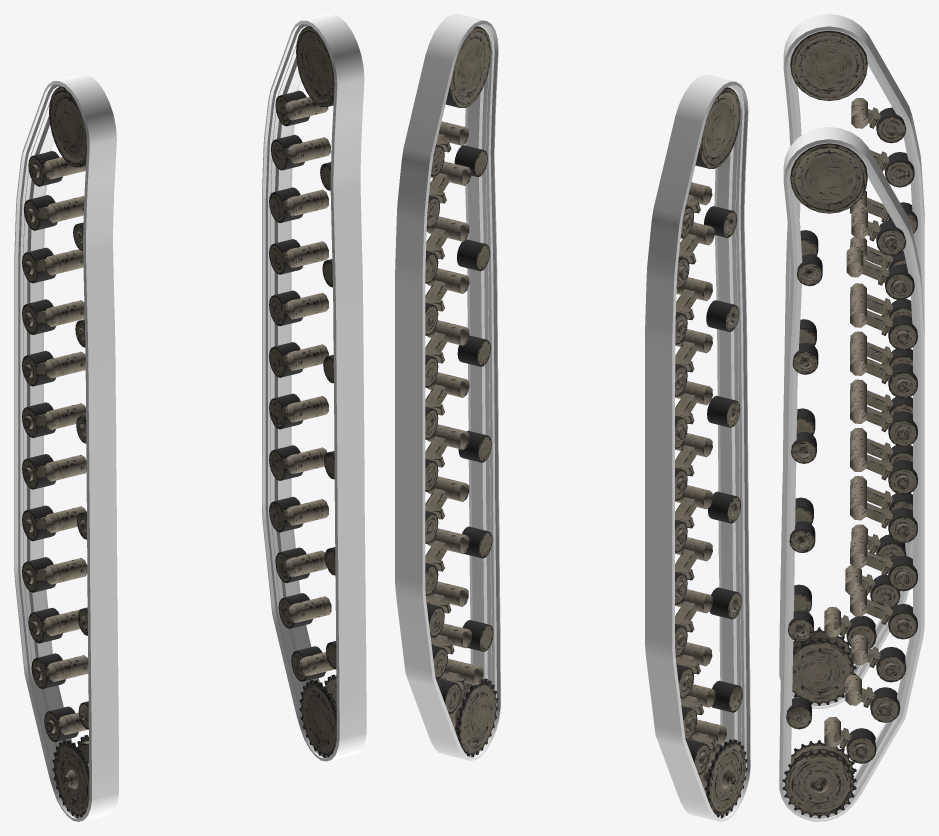
Rendered from Chassis.glb.
3 views of the same model, side by side, from view 1: azimuth 30°, elevation 25°; view 2: azimuth 150°, elevation 25°; view 3: azimuth 270°, elevation 25° (orthographic). The views are drawn at different scales.
Visible parts, largest first — view 1: set_1_group_0, set_0_group_0, set_3_group_0, set_5_group_0, set_2_group_0; view 2: set_1_group_0, set_0_group_0, set_5_group_0, set_3_group_0, set_4_group_0, set_2_group_0; view 3: set_5_group_0, set_3_group_0, set_0_group_0, set_1_group_0, set_4_group_0, set_2_group_0.
Boxes of the visible parts, x1,y1,x2,y2 form: set_1_group_0: (14,74,118,821); set_0_group_0: (262,14,366,761); set_3_group_0: (22,86,89,818); set_5_group_0: (269,26,336,757); set_2_group_0: (34,311,60,731); set_1_group_0: (645,75,750,821); set_0_group_0: (395,14,500,760); set_5_group_0: (425,26,497,757); set_3_group_0: (675,87,747,818); set_4_group_0: (425,280,467,689); set_2_group_0: (675,341,716,750); set_5_group_0: (782,143,917,818); set_3_group_0: (790,30,917,705); set_0_group_0: (779,127,924,821); set_1_group_0: (779,14,924,708); set_4_group_0: (833,358,892,749); set_2_group_0: (833,246,892,636).
Size of the model in its own units: 2.73 by 6.72 by 1.3.
6 materials, 4 textured.
